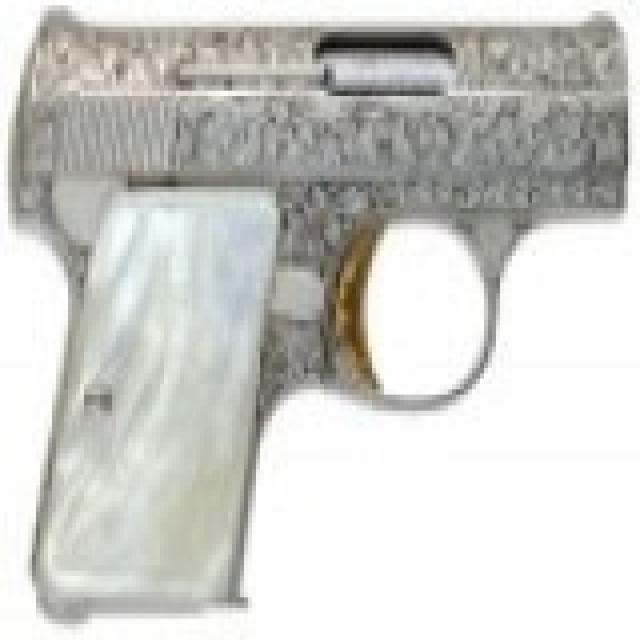Gun: (18, 13, 640, 593)
